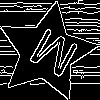M: (22, 27, 81, 87)
